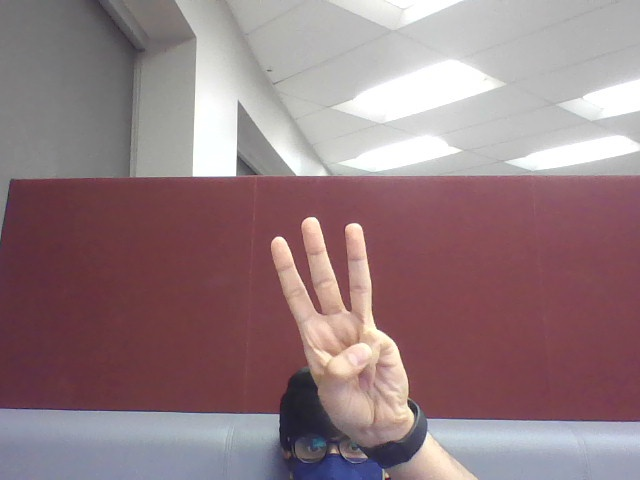three: (266, 213, 428, 431)
